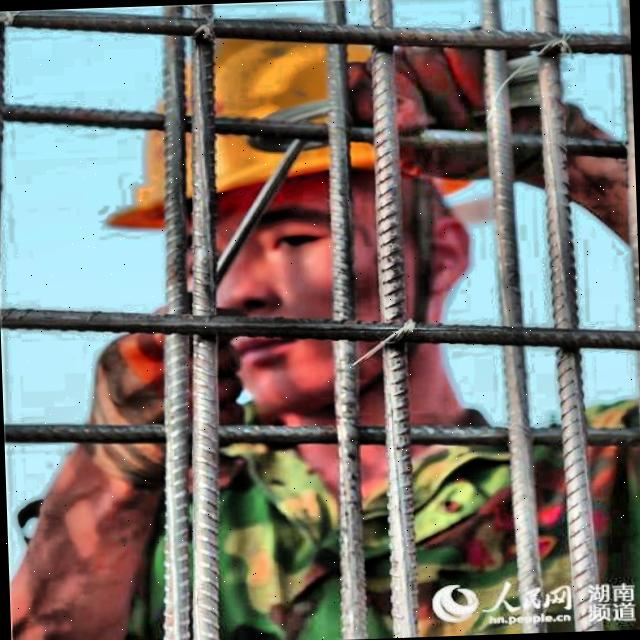helmet: (91, 8, 496, 423)
